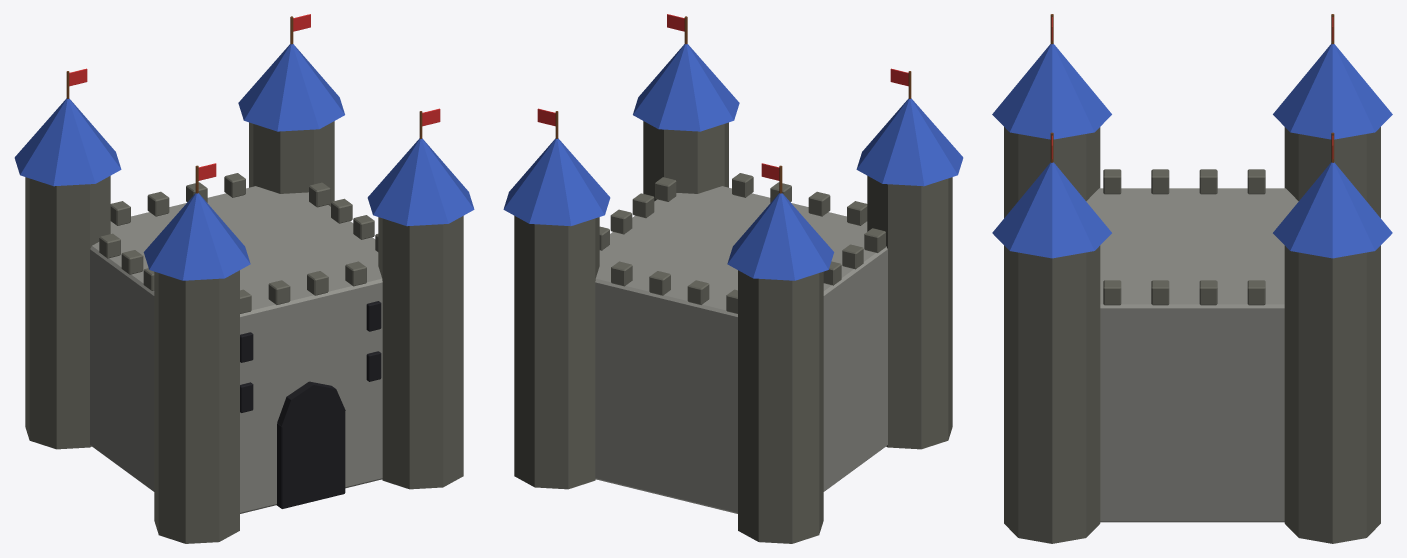
File: CastleKeep.fbx
The picture shows the model from 3 angles, left to right: view 1: azimuth 30°, elevation 25°; view 2: azimuth 150°, elevation 25°; view 3: azimuth 270°, elevation 25°; orthographic projection. The views are drawn at different scales.
Parts seen in each view (by area): view 1: CastleKeep; view 2: CastleKeep; view 3: CastleKeep.
Part boxes in pixels (bbox=[...]): CastleKeep: bbox=[14, 14, 474, 543]; CastleKeep: bbox=[503, 14, 963, 543]; CastleKeep: bbox=[992, 14, 1392, 543].
Size of the model in its own units: 20 by 21.5 by 20.
1 material, 1 textured.
